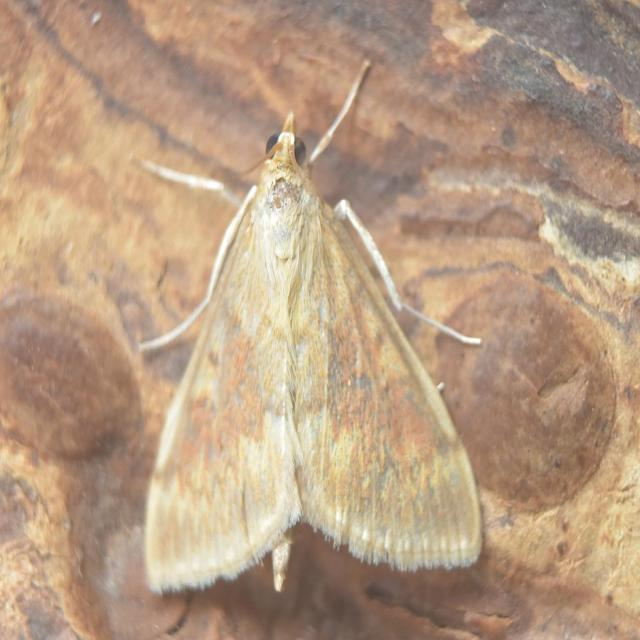cornborer-Adult-: (122, 40, 492, 616)
